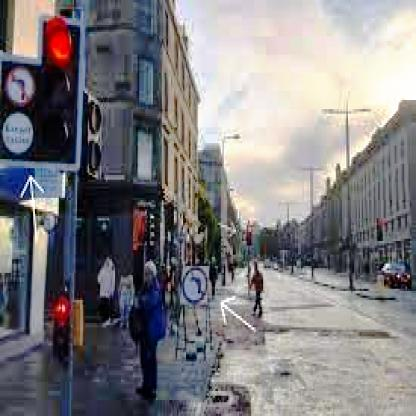No left turn: (0, 66, 40, 110), (184, 266, 212, 303)
